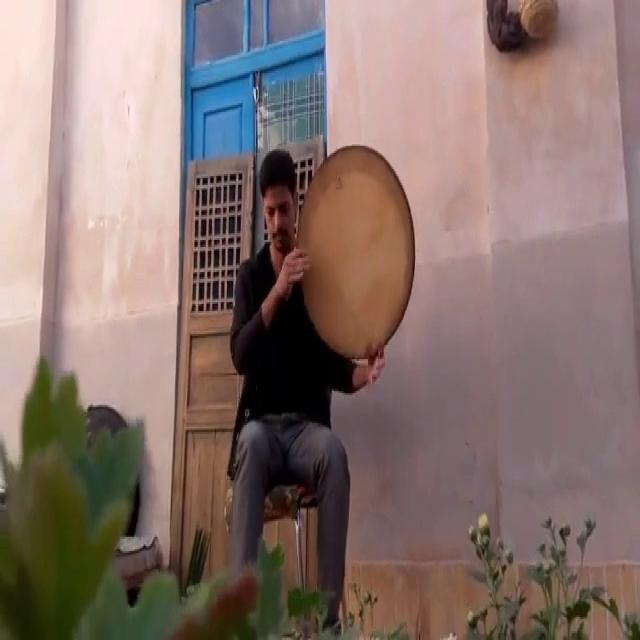Daf: (296, 138, 418, 366)
